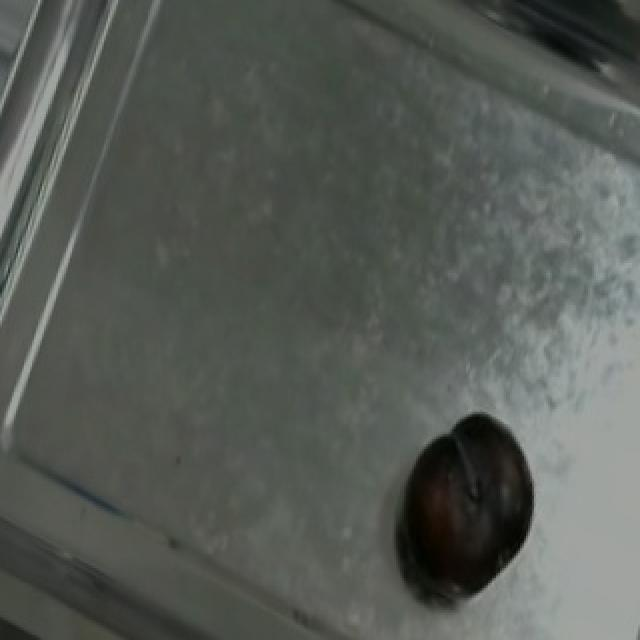Fruit: (388, 397, 542, 615)
